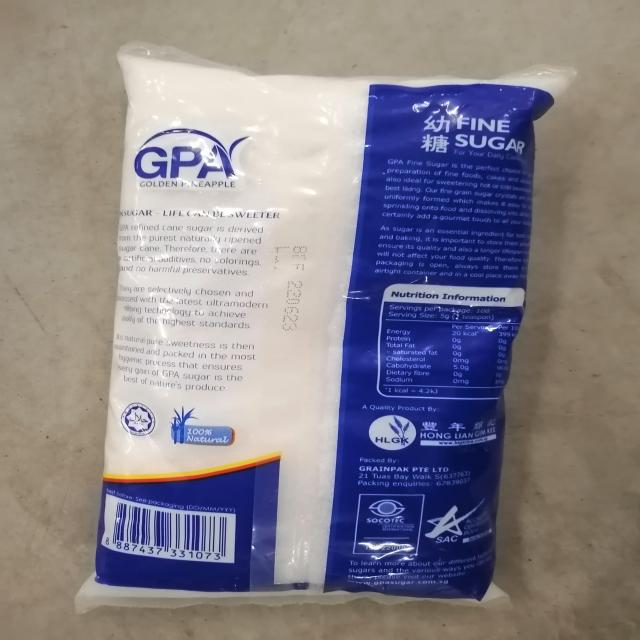object_name: (122, 55, 490, 611)
